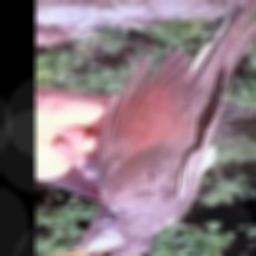Cuckoo: (42, 0, 256, 256)
